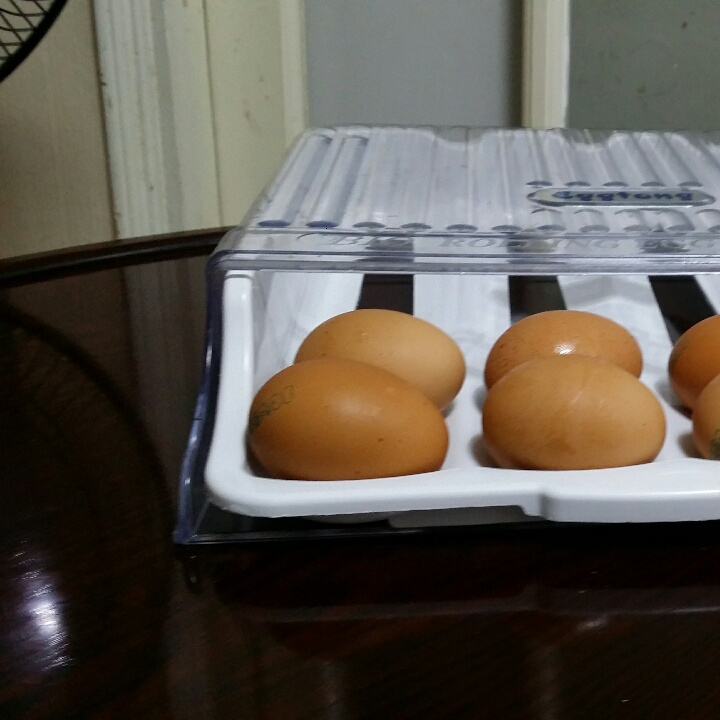egg: (250, 306, 720, 481)
